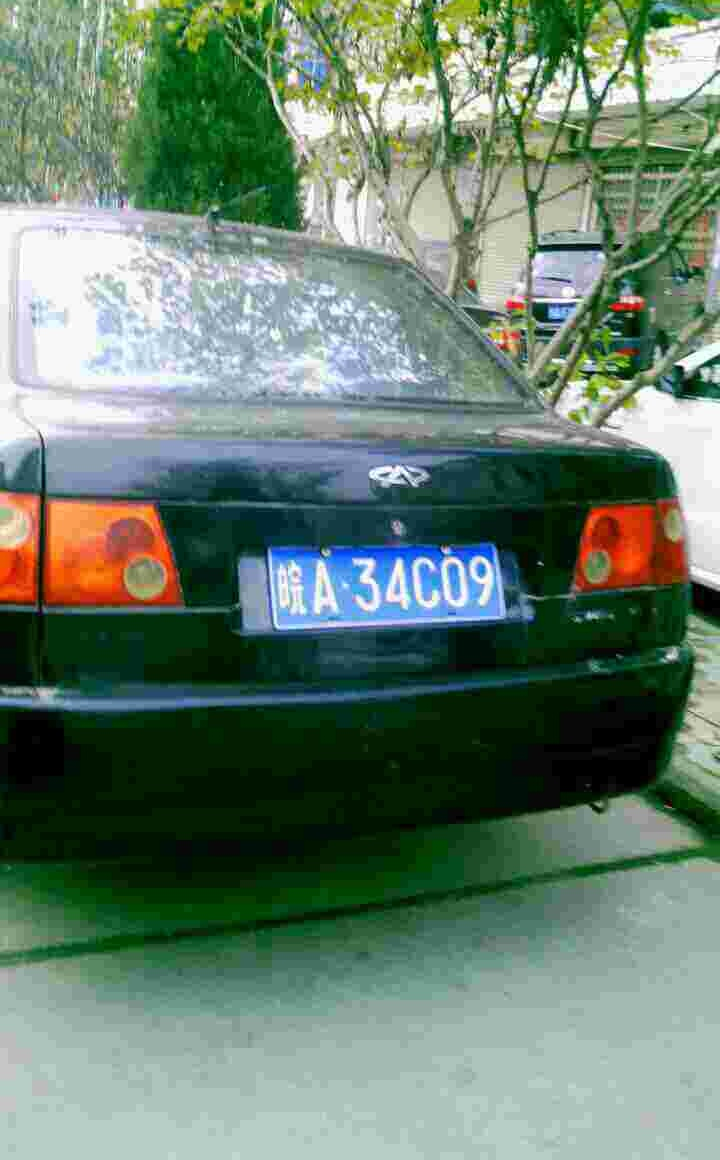license_plate: (259, 544, 506, 612)
